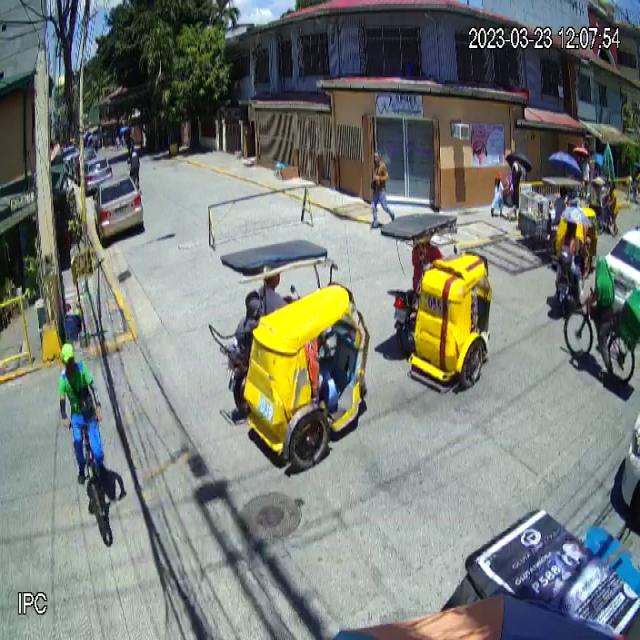Tricycle: (209, 238, 371, 473), (381, 211, 492, 397)
